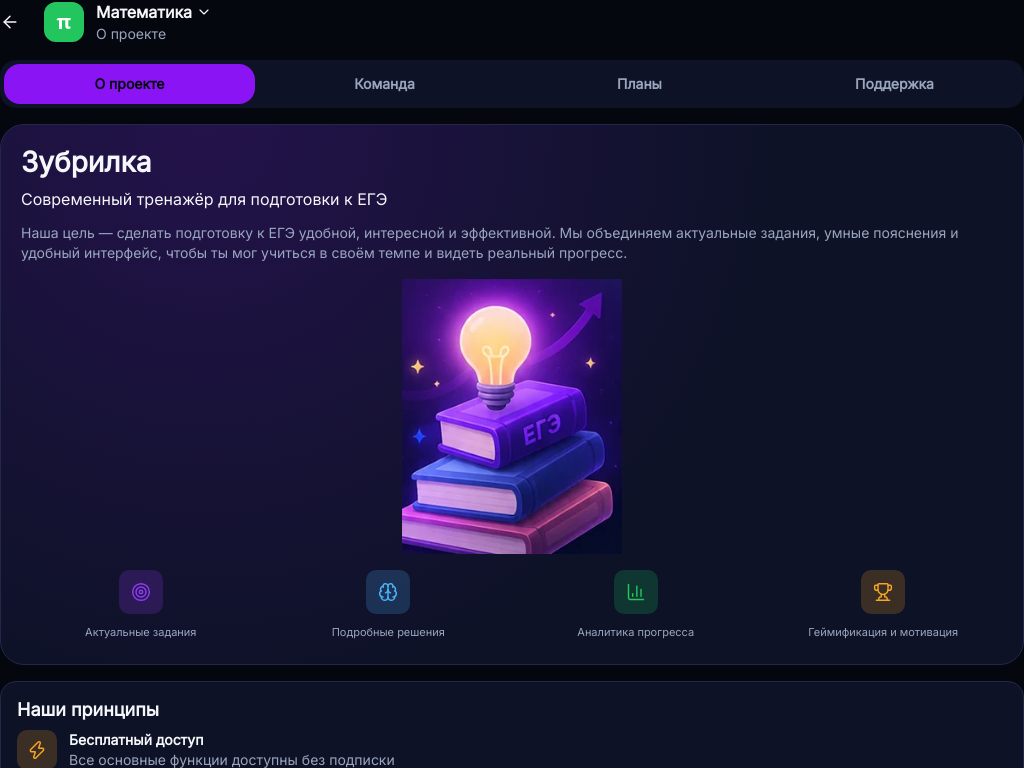
AboutMobile › shows a WIP note for other tabs
This screenshot has width=1024, height=768.
Step 1. Click the tab "Команда" → (384, 84), box x1=259 y1=64 x2=510 y2=104
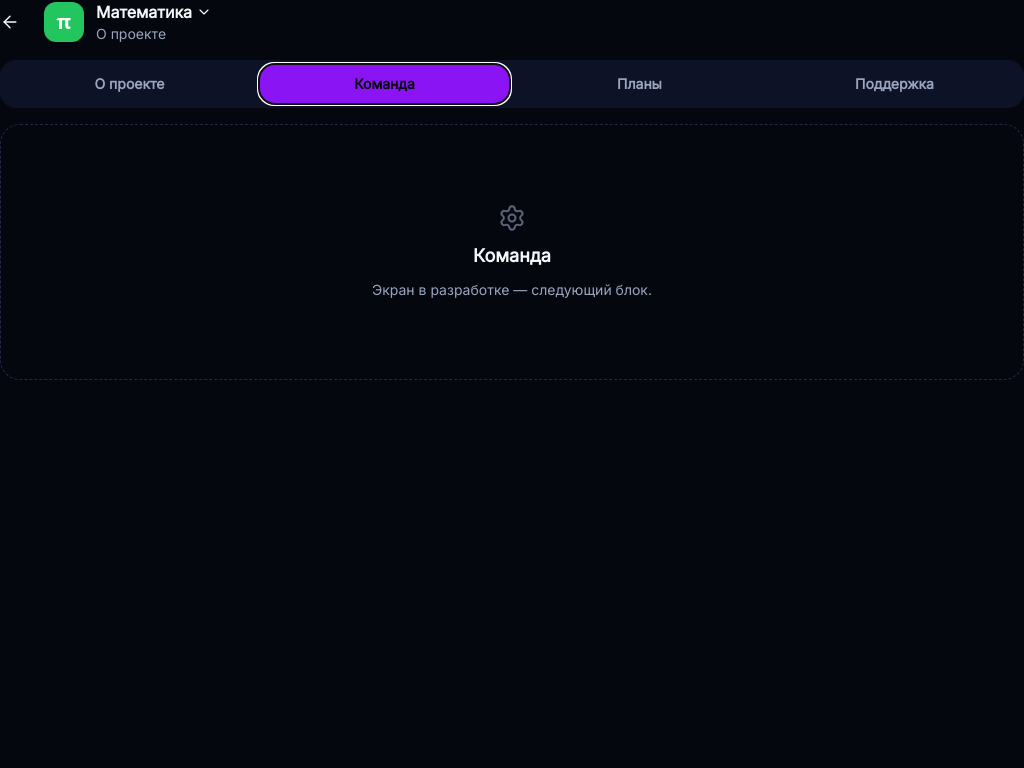
Expected: the text "Экран в разработке — следующий блок." is shown, x1=372 y1=280 x2=652 y2=300
